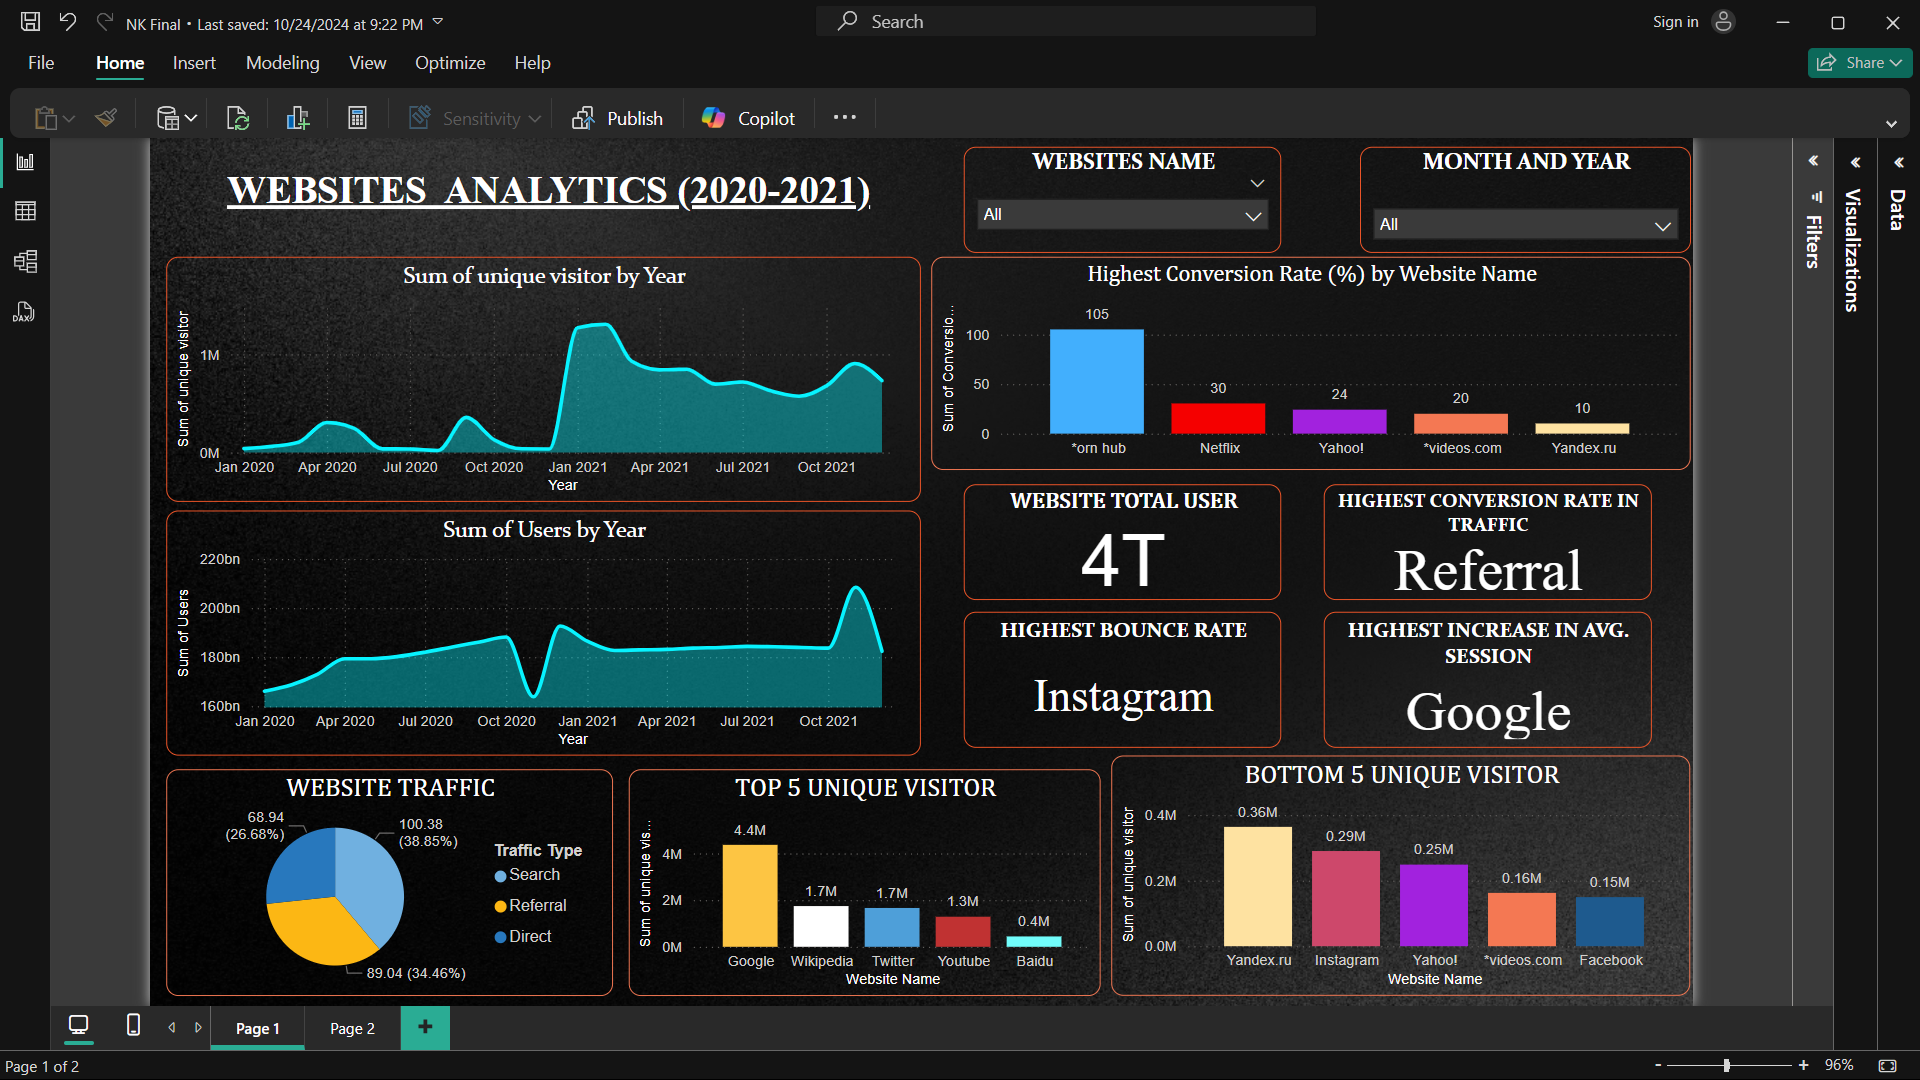

Layout of this report page (visuals, bound fields, positions):
{"tool":"powerbi","page":{"name":"Page 1","canvas":[1280,720],"ordinal":0},"visuals":[{"type":"textbox","box":[13.7,19.2,634,61.7],"z":0},{"type":"slicer","title":"MONTH AND YEAR","fields":{"Values":["Table1.Month of the year"]},"box":[1003.1,6.9,274.4,87.8],"z":1000},{"type":"slicer","title":"WEBSITES NAME","fields":{"Values":["Table1.Website Name"]},"box":[675.1,6.9,263.5,87.8],"z":2000},{"type":"areaChart","title":"Sum of Users by Year","fields":{"Y":["Sum(Table1.Users)"],"Category":["Table1.Month of the year.Variation.Date Hierarchy.Year","Table1.Month of the year.Variation.Date Hierarchy.Month"]},"box":[13.7,308.7,625.7,203.1],"z":3000},{"type":"areaChart","title":"Sum of unique visitor by Year ","fields":{"Y":["Sum(Table1.unique visitor)"],"Category":["Table1.Month of the year.Variation.Date Hierarchy.Year","Table1.Month of the year.Variation.Date Hierarchy.Month"]},"box":[13.7,98.8,625.7,203.1],"z":4000},{"type":"columnChart","title":"BOTTOM 5 UNIQUE VISITOR","fields":{"Category":["Table1.Website Name"],"Y":["Sum(Table1.unique visitor)"]},"box":[797.3,511.8,480.3,199],"z":5000},{"type":"columnChart","title":"TOP 5 UNIQUE VISITOR","fields":{"Category":["Table1.Website Name"],"Y":["Sum(Table1.unique visitor)"]},"box":[396.6,522.8,391.1,188],"z":6000},{"type":"card","title":"HIGHEST BOUNCE RATE","fields":{"Values":["Min(Table1.Website Name)"]},"box":[675.1,392.5,263.5,112.5],"z":7000},{"type":"pieChart","title":"WEBSITE TRAFFIC ","fields":{"Category":["Table1.Traffic Type"],"Y":["Sum(Table1.Conversion Rate (%))"]},"box":[13.7,522.8,370.5,188],"z":8000},{"type":"card","title":"WEBSITE TOTAL USER ","fields":{"Values":["Sum(Table1.Users)"]},"box":[675.1,286.8,263.5,96.1],"z":9000},{"type":"columnChart","title":"Highest Conversion Rate (%) by Website Name","fields":{"Category":["Table1.Website Name"],"Y":["Sum(Table1.Conversion Rate (%))"]},"box":[647.7,98.8,629.8,177],"z":10000},{"type":"card","title":"HIGHEST CONVERSION RATE IN TRAFFIC ","fields":{"Values":["Min(Table1.Traffic Type)"]},"box":[972.9,286.8,271.7,96.1],"z":11000},{"type":"card","title":"HIGHEST INCREASE IN AVG. SESSION ","fields":{"Values":["Min(Table1.Website Name)"]},"box":[972.9,392.5,271.7,112.5],"z":12000}]}

Visuals, with their boxes on the page's 1280x720 design canvas (x1, y1, x2, y2). These are canvas units, not pixel positions in the 1920x1080 screenshot, which may show the page scaled, cropped or inside an application window:
textbox: bbox=[14, 19, 648, 81]
"MONTH AND YEAR" slicer: bbox=[1003, 7, 1278, 95]
"WEBSITES NAME" slicer: bbox=[675, 7, 939, 95]
"Sum of Users by Year" areaChart: bbox=[14, 309, 639, 512]
"Sum of unique visitor by Year " areaChart: bbox=[14, 99, 639, 302]
"BOTTOM 5 UNIQUE VISITOR" columnChart: bbox=[797, 512, 1278, 711]
"TOP 5 UNIQUE VISITOR" columnChart: bbox=[397, 523, 788, 711]
"HIGHEST BOUNCE RATE" card: bbox=[675, 392, 939, 505]
"WEBSITE TRAFFIC " pieChart: bbox=[14, 523, 384, 711]
"WEBSITE TOTAL USER " card: bbox=[675, 287, 939, 383]
"Highest Conversion Rate (%) by Website Name" columnChart: bbox=[648, 99, 1278, 276]
"HIGHEST CONVERSION RATE IN TRAFFIC " card: bbox=[973, 287, 1245, 383]
"HIGHEST INCREASE IN AVG. SESSION " card: bbox=[973, 392, 1245, 505]
